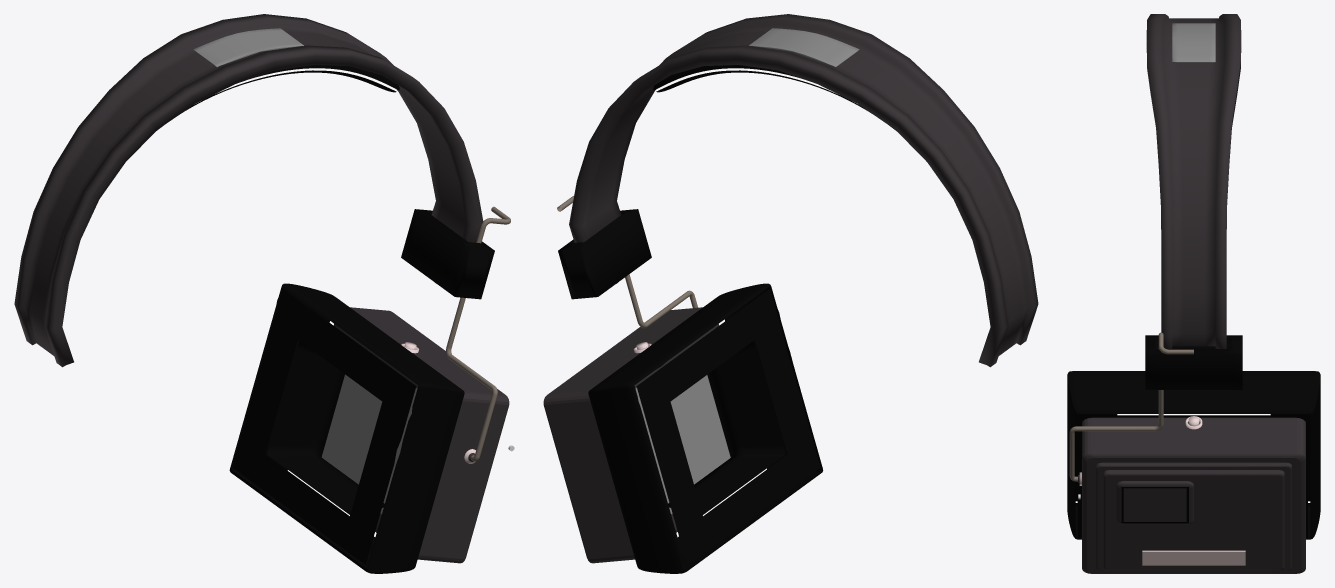
Rendered from headphon.glb.
3 views of the same model, side by side, from view 1: azimuth 30°, elevation 25°; view 2: azimuth 150°, elevation 25°; view 3: azimuth 270°, elevation 25° (orthographic). The views are drawn at different scales.
Parts seen in each view (by area): view 1: Cube.001, Circle, Cube, Cube.003, Cube.002, Cube.004, Cylinder.001, Circle.001; view 2: Cube.001, Circle, Cube, Cube.003, Cube.002, Cube.004, Circle.001, Cylinder.001; view 3: Cube, Circle, Cube.001, Cube.003, Cube.004, Cube.005, Cylinder.001.
Boxes of the visible parts, bbox=[...] form: Cube.001: bbox=[229, 283, 464, 573]; Circle: bbox=[14, 14, 483, 367]; Cube: bbox=[333, 307, 509, 563]; Cube.003: bbox=[401, 209, 494, 299]; Cube.002: bbox=[321, 374, 417, 514]; Cube.004: bbox=[193, 28, 303, 67]; Cylinder.001: bbox=[446, 206, 510, 461]; Circle.001: bbox=[157, 65, 399, 130]; Cube.001: bbox=[588, 283, 823, 573]; Circle: bbox=[569, 14, 1038, 367]; Cube: bbox=[543, 307, 719, 563]; Cube.003: bbox=[558, 209, 651, 299]; Cube.002: bbox=[635, 375, 730, 513]; Cube.004: bbox=[749, 28, 859, 67]; Circle.001: bbox=[653, 65, 895, 130]; Cylinder.001: bbox=[557, 196, 697, 328]; Cube: bbox=[1082, 417, 1305, 573]; Circle: bbox=[1146, 14, 1241, 348]; Cube.001: bbox=[1067, 371, 1320, 539]; Cube.003: bbox=[1145, 335, 1242, 389]; Cube.004: bbox=[1172, 23, 1215, 62]; Cube.005: bbox=[1142, 550, 1245, 565]; Cylinder.001: bbox=[1069, 332, 1193, 481].
Size of the model in its own units: 1.16 by 1.24 by 0.6044.
